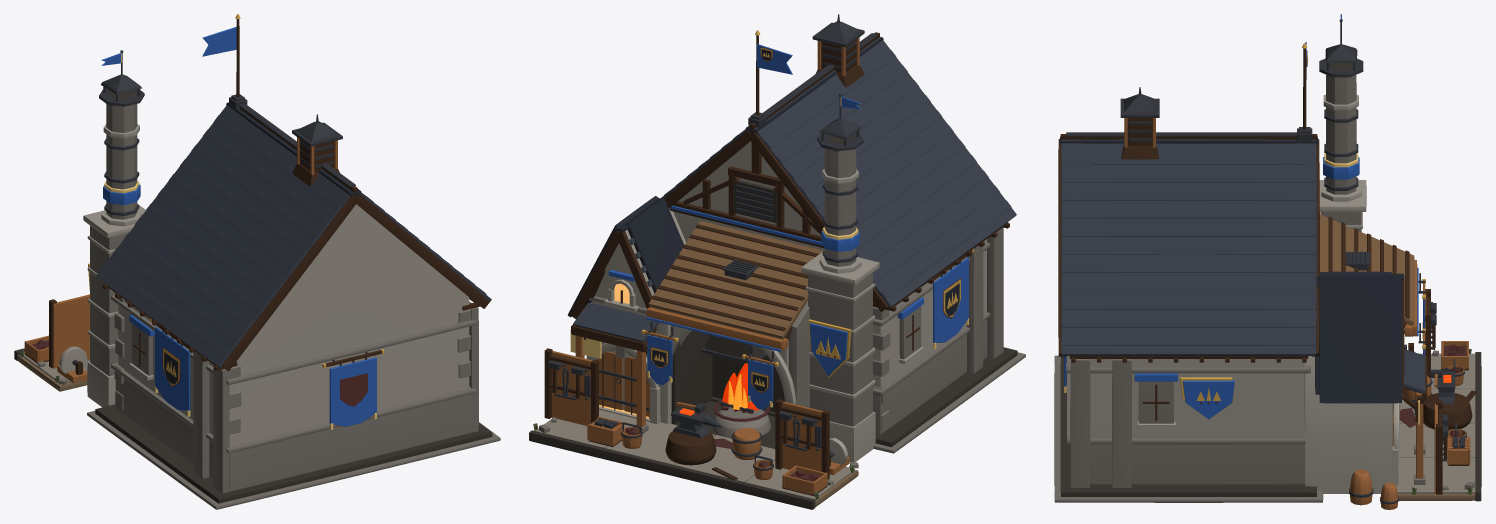
File: 铁匠铺.glb
3 views of the same model, side by side, from view 1: azimuth 30°, elevation 25°; view 2: azimuth 150°, elevation 25°; view 3: azimuth 270°, elevation 25° (orthographic). The views are drawn at different scales.
Visible parts, largest first — view 1: BS-stone_light, BS-roof, BS-stone_mid, BS-wood_dark, BS-team, BS-stone_dark, BS-iron, BS-wood_warm, BS-coal, BS-roof_edge, BS-earth; view 2: BS-roof, BS-stone_mid, BS-wood_dark, BS-stone_light, BS-stone_dark, BS-wood_warm, BS-roof_wood, BS-iron, BS-team, BS-roof_edge, BS-paving, BS-gold (+2 smaller); view 3: BS-roof, BS-stone_mid, BS-stone_light, BS-roof_edge, BS-wood_dark, BS-iron, BS-stone_dark, BS-paving, BS-wood_warm, BS-roof_wood, BS-team, BS-coal (+2 smaller).
Part boxes in pixels (x1,y1,x2,y2): BS-stone_light: [59, 124, 469, 445]; BS-roof: [96, 105, 491, 368]; BS-stone_mid: [37, 104, 500, 509]; BS-wood_dark: [25, 19, 489, 375]; BS-team: [101, 26, 376, 426]; BS-stone_dark: [14, 91, 492, 503]; BS-iron: [72, 50, 367, 366]; BS-wood_warm: [24, 137, 337, 383]; BS-coal: [31, 340, 367, 406]; BS-roof_edge: [164, 102, 361, 384]; BS-earth: [17, 355, 87, 391]; BS-roof: [573, 37, 1016, 342]; BS-stone_mid: [539, 148, 1025, 485]; BS-wood_dark: [544, 32, 1009, 495]; BS-stone_light: [586, 141, 987, 465]; BS-stone_dark: [529, 136, 1017, 509]; BS-wood_warm: [552, 37, 859, 495]; BS-roof_wood: [648, 221, 823, 339]; BS-iron: [547, 14, 965, 470]; BS-team: [608, 44, 968, 409]; BS-roof_edge: [568, 37, 959, 391]; BS-paving: [535, 409, 854, 499]; BS-gold: [641, 30, 973, 392]; BS-roof: [1061, 139, 1425, 393]; BS-stone_mid: [1054, 75, 1474, 502]; BS-stone_light: [1090, 94, 1399, 493]; BS-roof_edge: [1059, 136, 1403, 403]; BS-wood_dark: [1058, 48, 1476, 494]; BS-iron: [1066, 19, 1466, 504]; BS-stone_dark: [1060, 63, 1481, 501]; BS-paving: [1396, 353, 1475, 493]; BS-wood_warm: [1124, 118, 1470, 509]; BS-roof_wood: [1320, 214, 1414, 325]; BS-team: [1064, 14, 1424, 419]; BS-coal: [1200, 50, 1466, 437].
Bounding box in the file's own units: 9.93 × 11.82 × 11.81.
